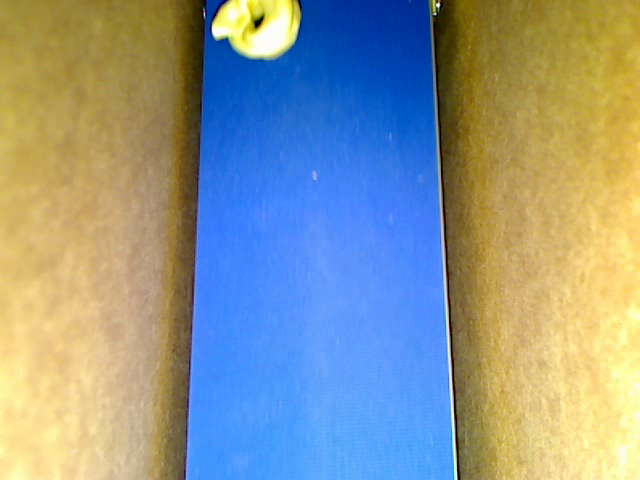tortellini: (210, 1, 301, 61)
